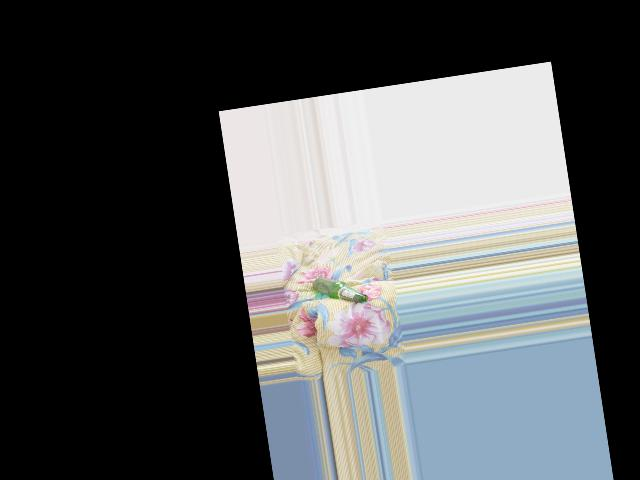beer: (312, 271, 368, 310)
